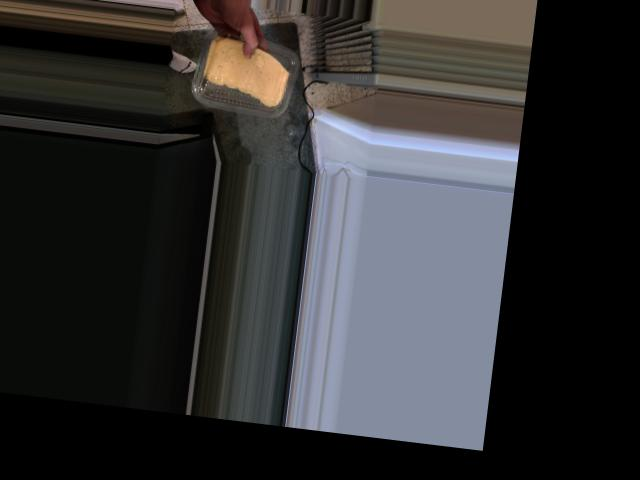cheese: (191, 28, 300, 113)
